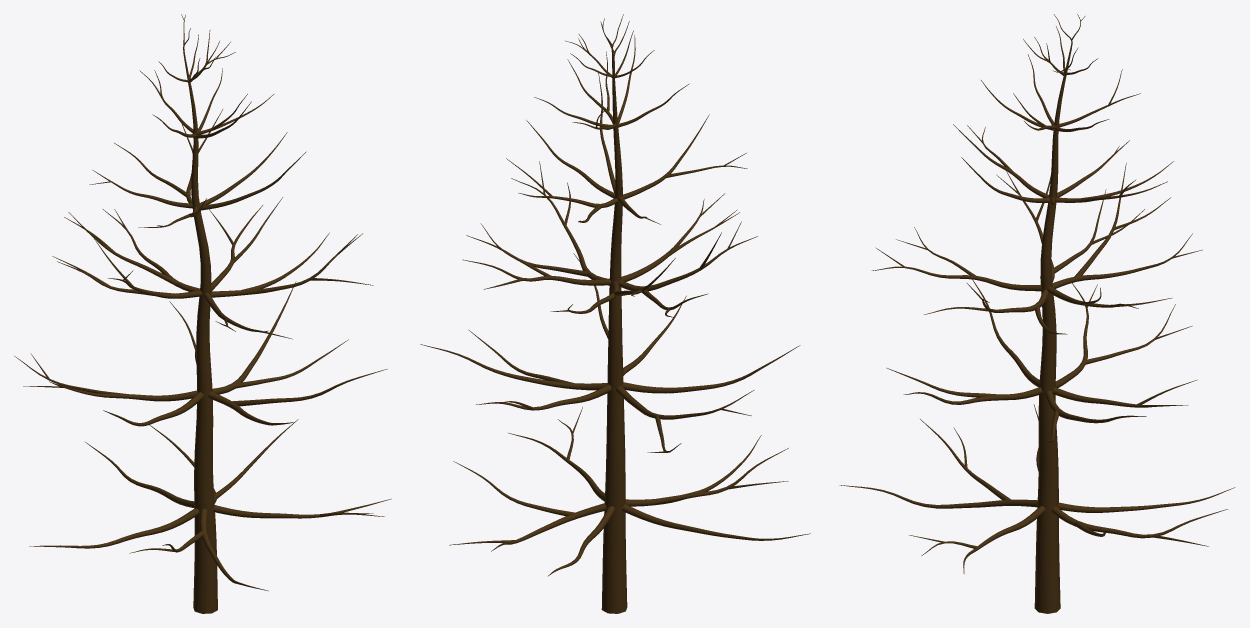
The model's file is DesertTree4.fbx.
3 views of the same model, side by side, from view 1: azimuth 30°, elevation 25°; view 2: azimuth 150°, elevation 25°; view 3: azimuth 270°, elevation 25° (orthographic). The views are drawn at different scales.
Parts seen in each view (by area): view 1: DesertTree4; view 2: DesertTree4; view 3: DesertTree4.
Part boxes in pixels (left/top/right/bottom): DesertTree4: left=14, top=14, right=391, bottom=613; DesertTree4: left=420, top=14, right=810, bottom=613; DesertTree4: left=839, top=14, right=1235, bottom=613.
Size of the model in its own units: 1085 by 1845 by 1119.
